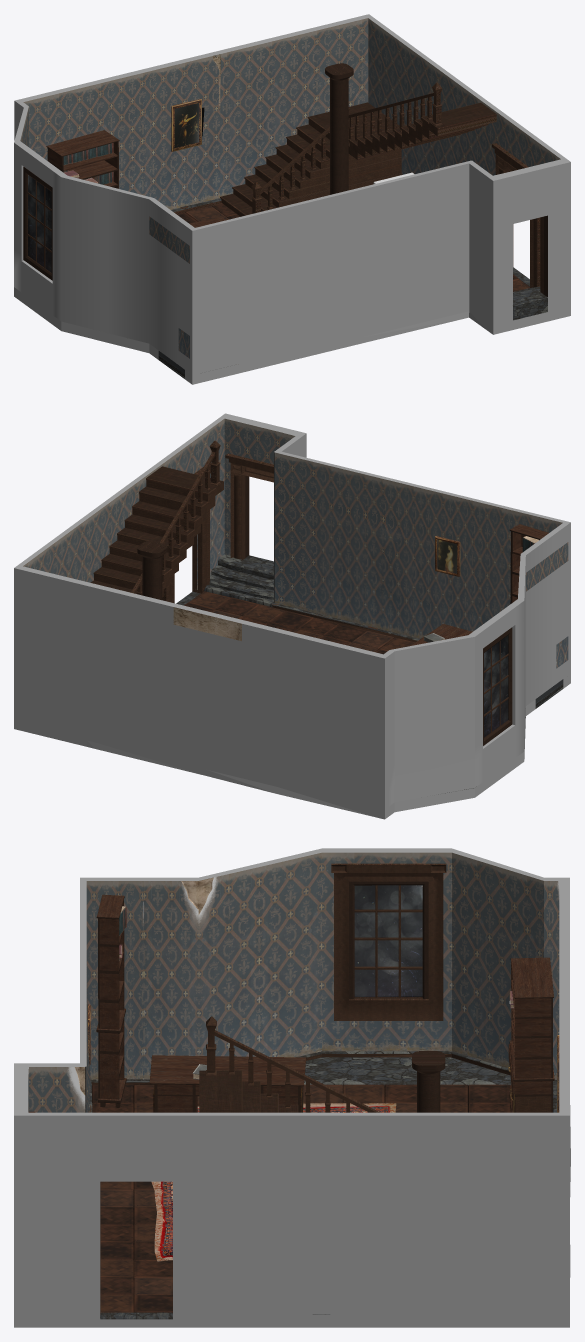
File: Office.fbx
The picture shows the model from 3 angles, top to bottom: view 1: azimuth 30°, elevation 25°; view 2: azimuth 150°, elevation 25°; view 3: azimuth 270°, elevation 25°; orthographic projection. The views are drawn at different scales.
Parts seen in each view (by area): view 1: walls, stairs, floor, wood_column, desk_blade1, pPlane1, woman_with_torch, close_door_frame, pCube10, parquete_right; view 2: walls, stairs, floor, parquete_right, open_door_frame, small_stony_stairs, pPlane1, wood_column, close_door_frame, thin_bookcase, woman_with_skeleton_painting1, pCube10 (+1 smaller); view 3: walls, floor, window_frame, parquete_right, pPlane1, desk_blade1, parquete_left, thin_bookcase, marble_plate_under_window, desk_blade, stairs, carpet (+4 smaller).
Boxes of the visible parts, box(x1,y1,x2,y2) form: walls: box(14, 14, 570, 374); stairs: box(220, 102, 496, 216); floor: box(14, 198, 570, 384); wood_column: box(325, 63, 353, 194); desk_blade1: box(46, 130, 119, 188); pPlane1: box(28, 175, 51, 272); woman_with_torch: box(171, 98, 201, 151); close_door_frame: box(492, 143, 540, 287); pCube10: box(23, 166, 52, 280); parquete_right: box(185, 203, 529, 291); walls: box(14, 413, 570, 809); stairs: box(90, 466, 223, 597); floor: box(14, 588, 570, 819); parquete_right: box(184, 591, 394, 651); open_door_frame: box(225, 453, 273, 560); small_stony_stairs: box(209, 554, 273, 599); pPlane1: box(484, 635, 508, 737); wood_column: box(137, 541, 167, 600); close_door_frame: box(162, 465, 210, 603); thin_bookcase: box(509, 524, 548, 603); woman_with_skeleton_painting1: box(435, 536, 460, 576); pCube10: box(483, 627, 512, 745); walls: box(14, 848, 569, 1314); floor: box(14, 1051, 570, 1327); window_frame: box(331, 863, 446, 1020); parquete_right: box(100, 1189, 172, 1312); pPlane1: box(354, 885, 422, 996); desk_blade1: box(509, 957, 554, 1112); parquete_left: box(92, 1084, 511, 1189); thin_bookcase: box(96, 894, 126, 1107); marble_plate_under_window: box(304, 1057, 511, 1085); desk_blade: box(149, 1055, 306, 1086); stairs: box(199, 1070, 298, 1112); carpet: box(151, 1103, 396, 1261).
Bounding box in the file's own units: 68.68 × 32.32 × 60.5.
